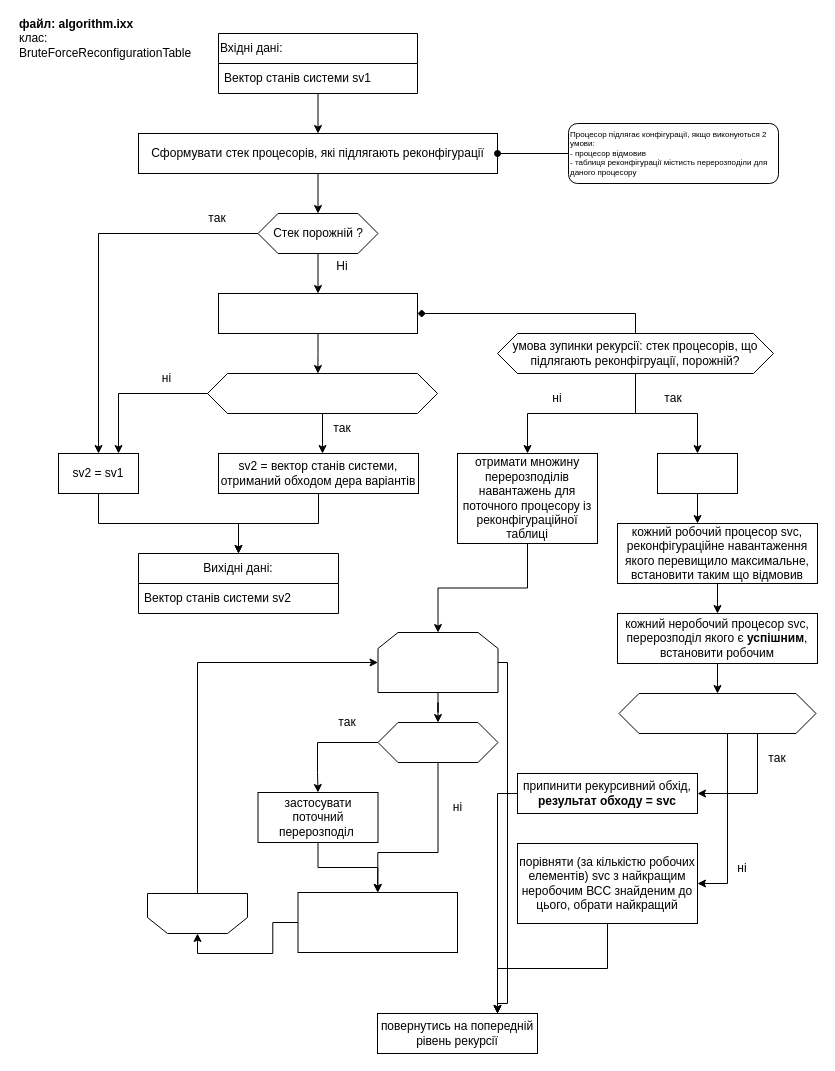
Image size: 835x1071. Some labels were removed from this diagram. Each missing label, with the centre of its shape:
"svс = sv1" goes at point (697, 473).
"для кожного перерозподілу навантажень поточного процесору" goes at point (437, 662).
"Перерозподіл є можливим ?" goes at point (437, 742).
"рекурсивний виклик: розглядати наступний процесор що потребує реконфігурації" goes at point (377, 922).
"рекурсивний обхід дерева варіантів реконфігурацій вглибну" goes at point (318, 313).
"стан системи (svc) робочий ?" goes at point (717, 713).
"Чи отримано новий вектор станів системи внаслідок реконфігурації ?" goes at point (322, 393).
